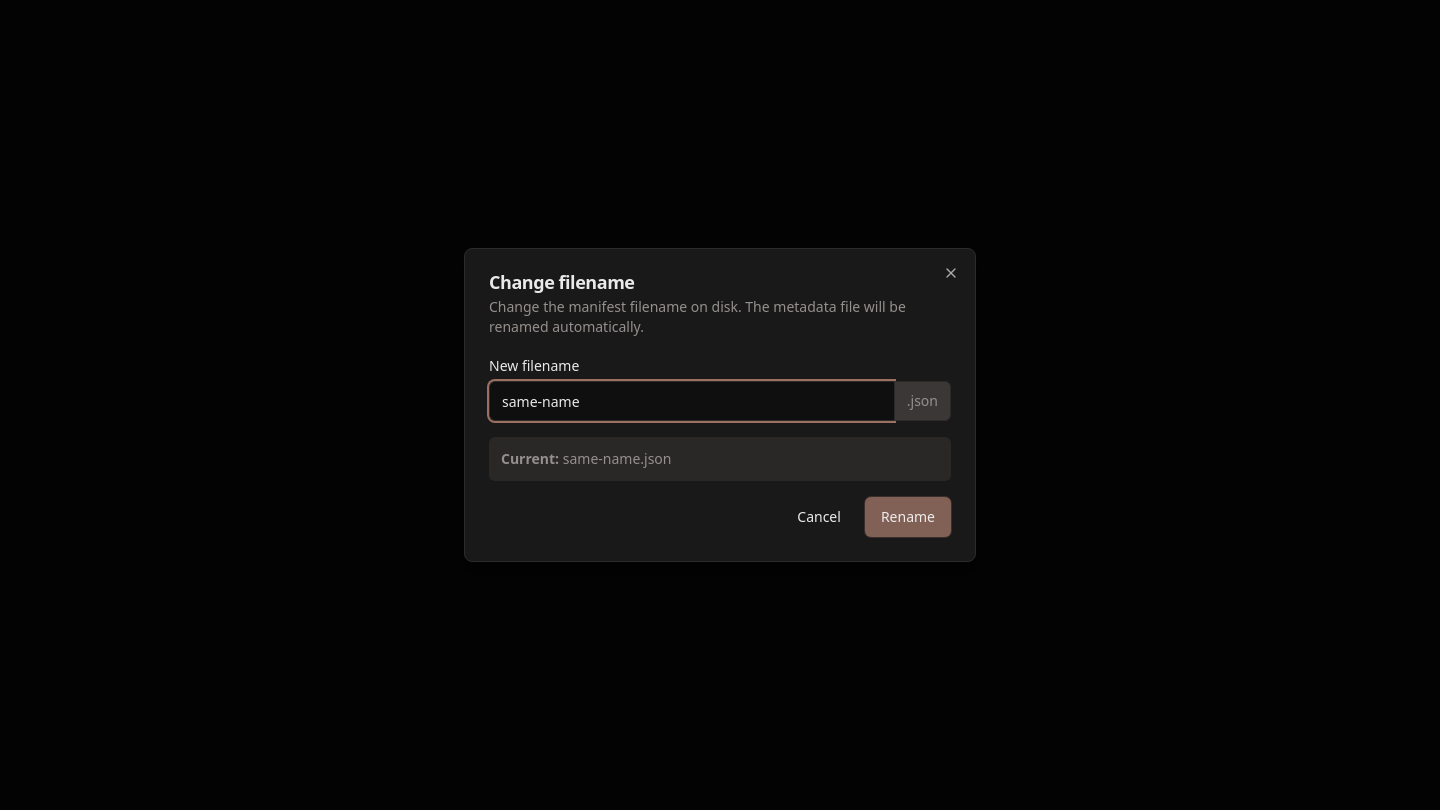
Test: RenameFileModal › Basename validation › shows error when basename is same as current
The image size is (1440, 810).
Note: Input already has 'same-name', clicking rename should show error
Click the button "Rename": coordinates (908, 517) [865,497,951,537]
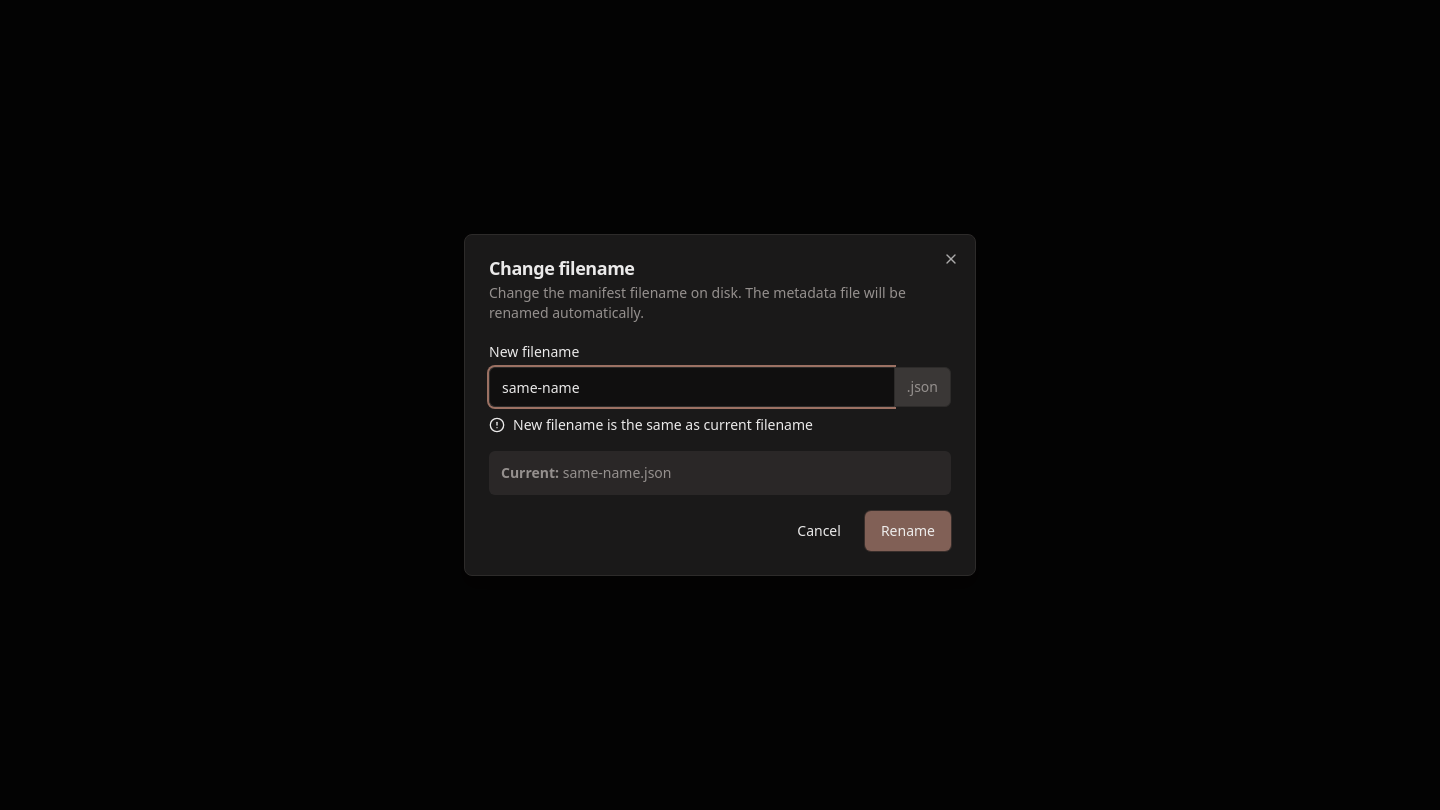
expect the text "New filename is the same as current filename" is shown: met, box [489,415,813,434]
